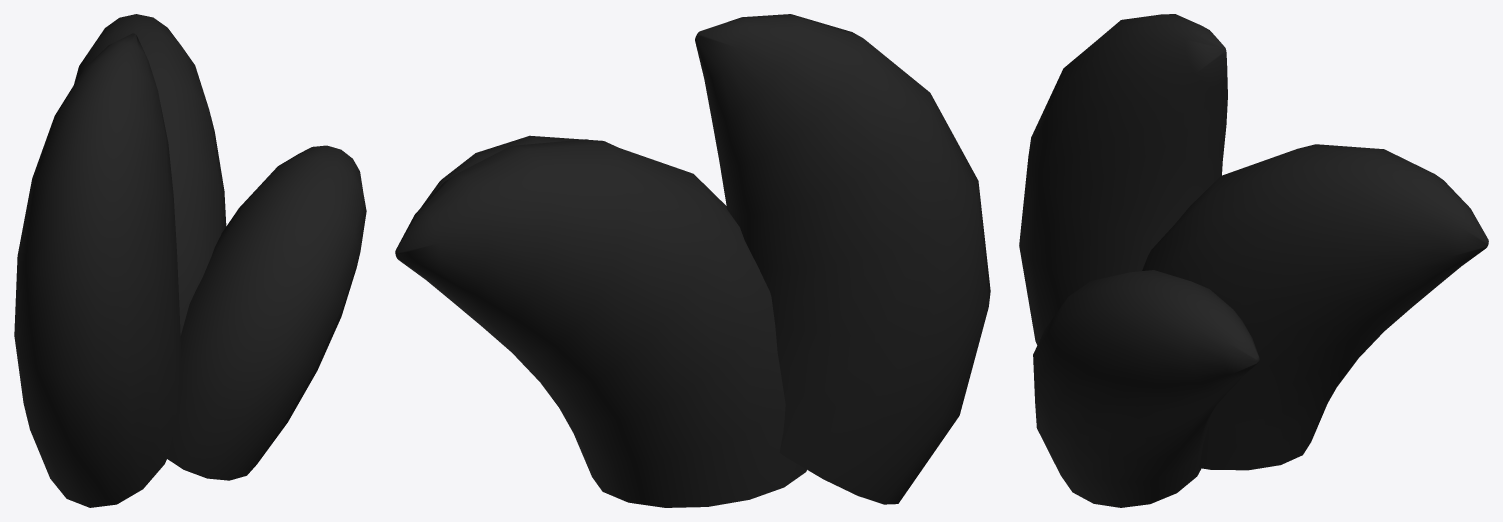
Rendered from Hair05.fbx.
The picture shows the model from 3 angles, left to right: view 1: azimuth 30°, elevation 25°; view 2: azimuth 150°, elevation 25°; view 3: azimuth 270°, elevation 25°; orthographic projection. The views are drawn at different scales.
Parts seen in each view (by area): view 1: Hair05; view 2: Hair05; view 3: Hair05.
Part boxes in pixels (bbox=[...]): Hair05: bbox=[14, 14, 366, 507]; Hair05: bbox=[395, 14, 990, 507]; Hair05: bbox=[1019, 14, 1488, 507].
Bounding box in the file's own units: 15.02 × 14.94 × 15.29.
1 material, 1 textured.
